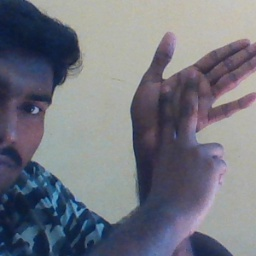N: (126, 29, 256, 209)
